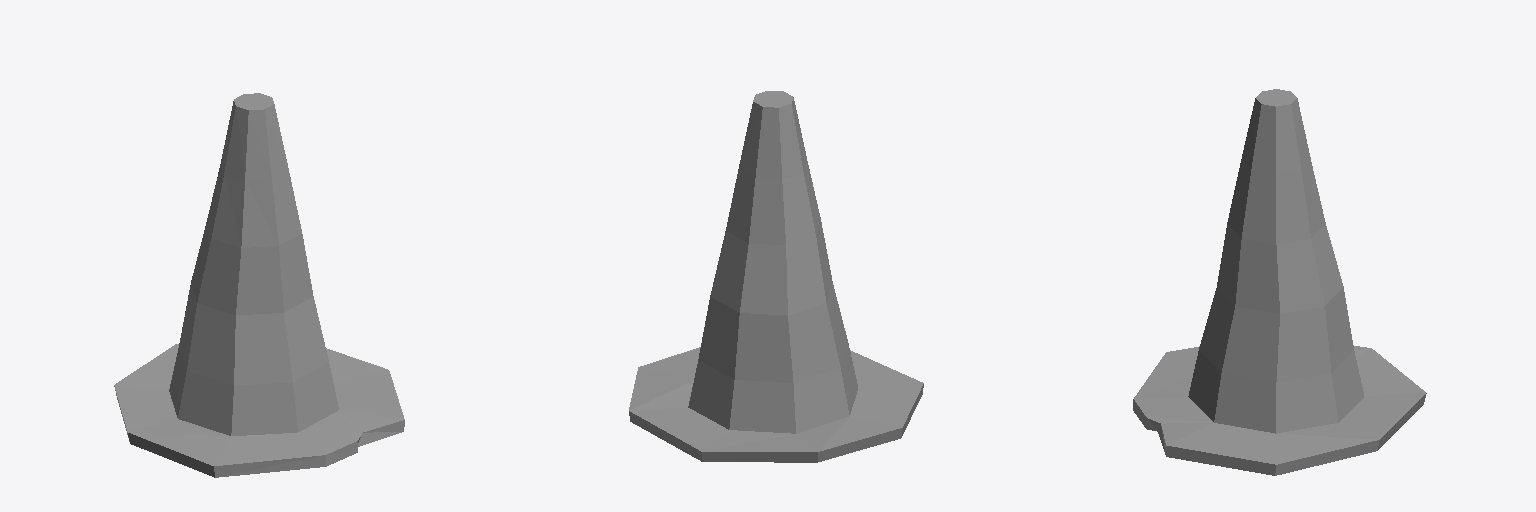
Rendered from stozec.obj.
3 renders of one model, left to right at view 1: azimuth 30°, elevation 25°; view 2: azimuth 150°, elevation 25°; view 3: azimuth 270°, elevation 25°, orthographic.
Visible parts, largest first — view 1: Circle_Circle.001; view 2: Circle_Circle.001; view 3: Circle_Circle.001.
Part boxes in pixels (x1,y1,x2,y2): Circle_Circle.001: (114,93,404,477); Circle_Circle.001: (629,91,923,462); Circle_Circle.001: (1133,89,1426,475).
Size of the model in its own units: 5.28 by 5.99 by 5.1.